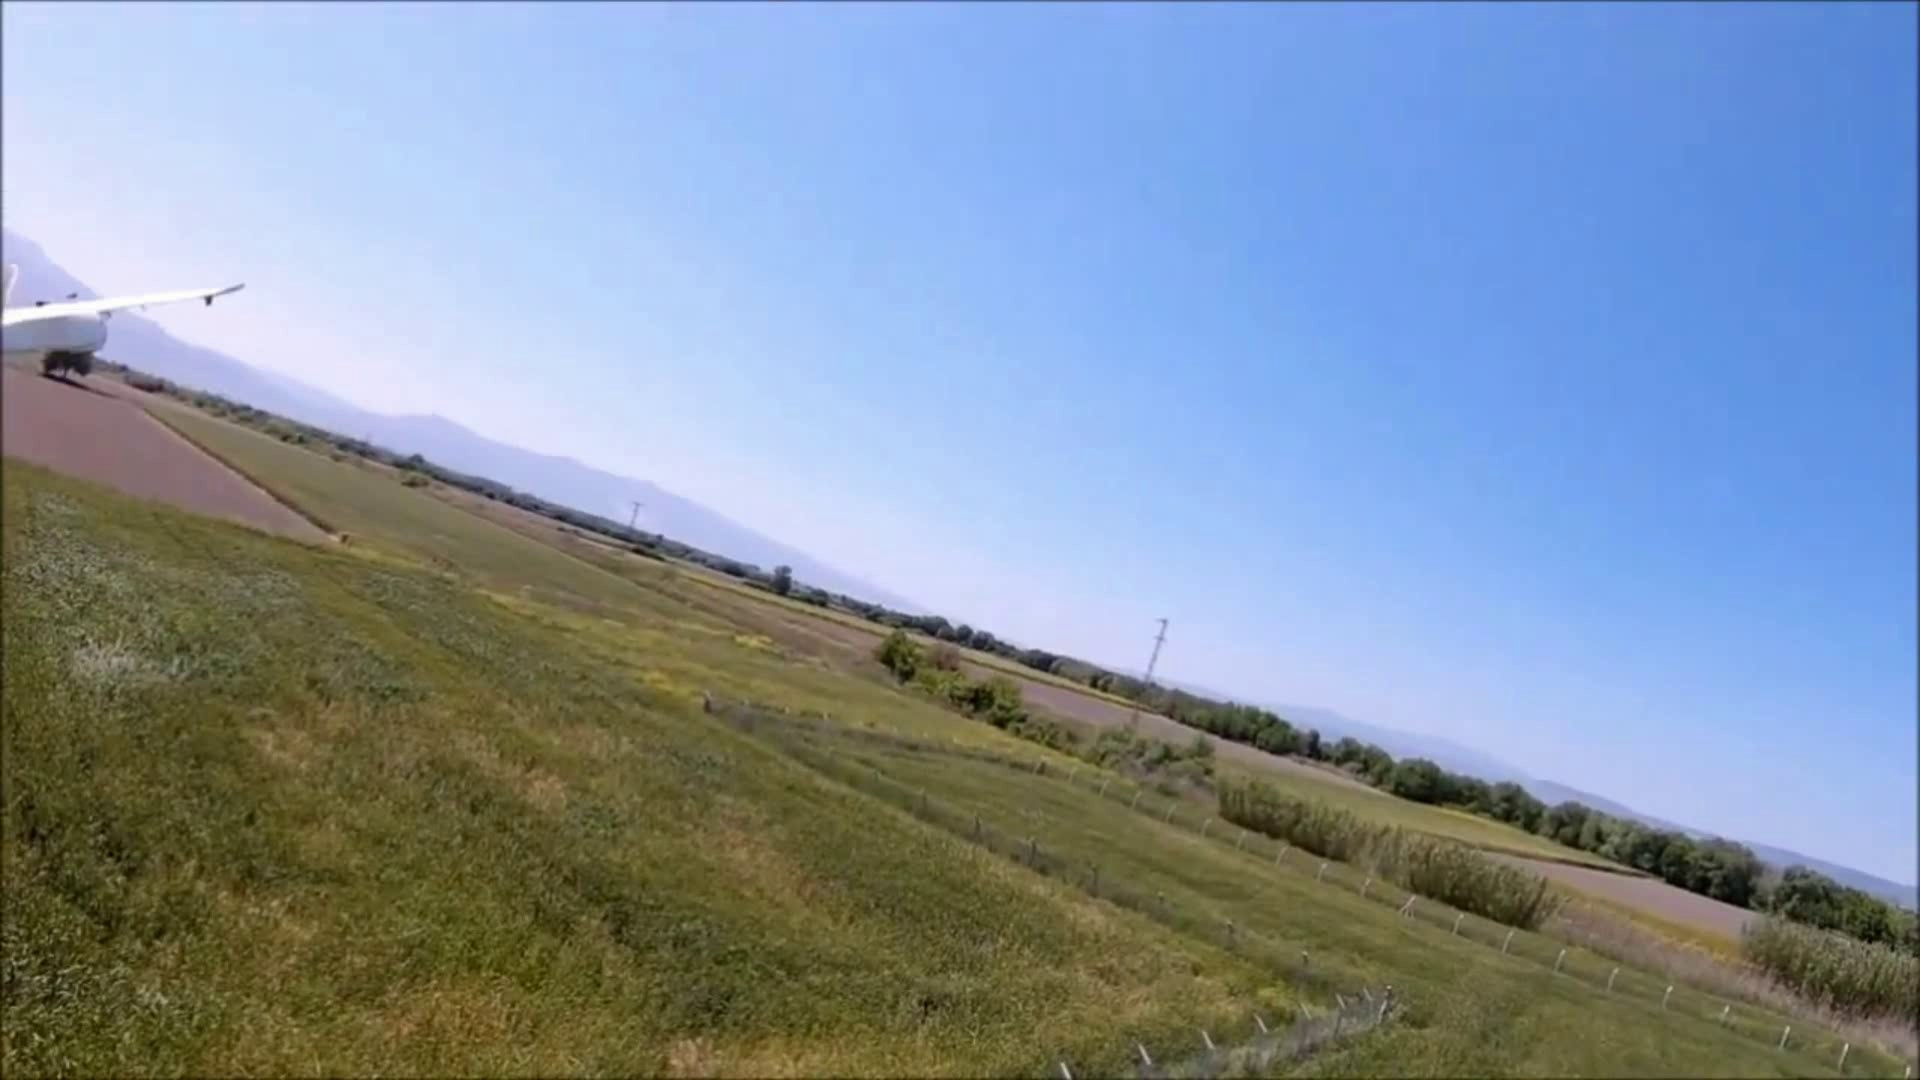airplane: (3, 225, 248, 377)
